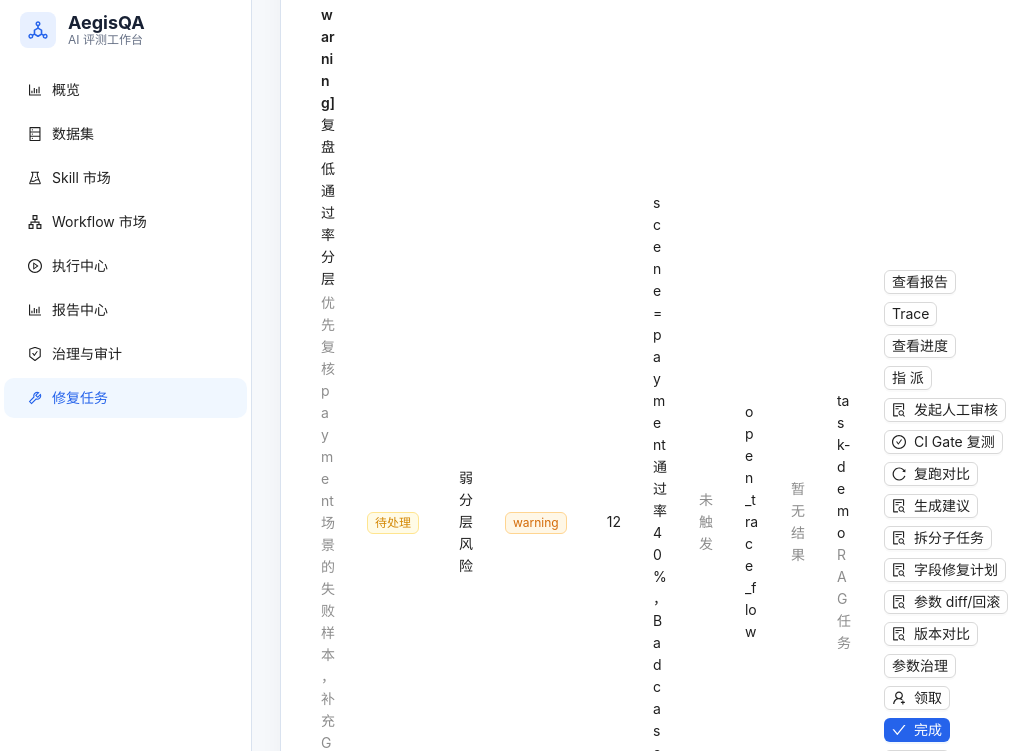
Test: 修复任务工作台 › 修复任务工作台支持指派负责人并在修复树提示逾期
(page scrolled)
Click the button named "指派修复任务" at (908, 378), box x1=884 y1=366 x2=932 y2=390
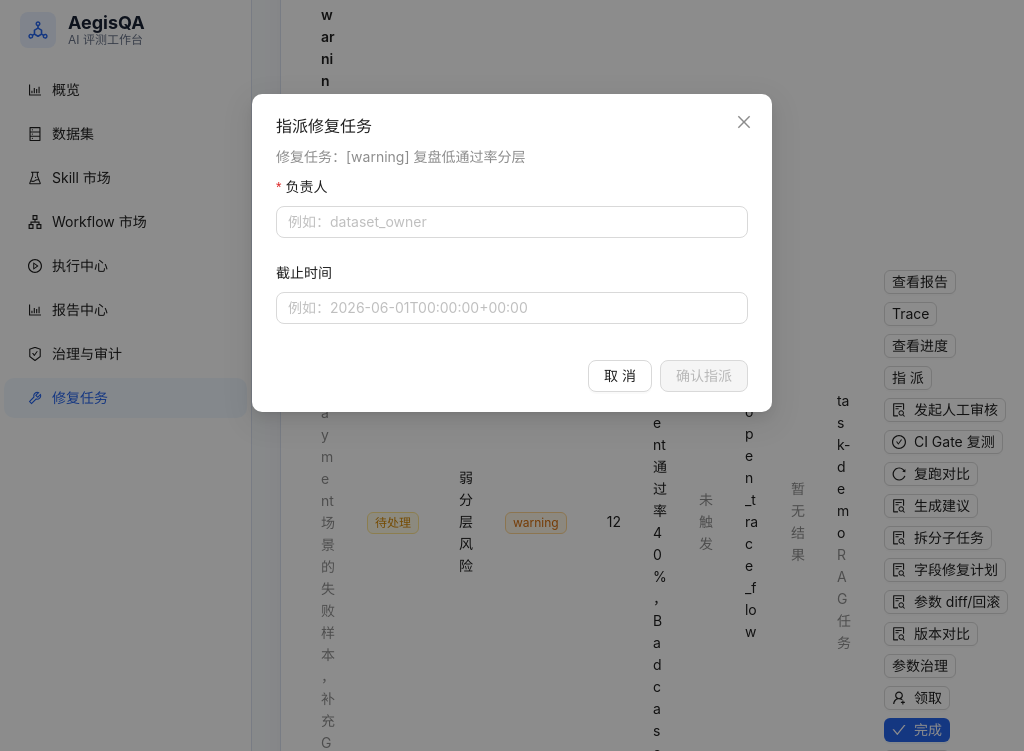
Result: the text "指派修复任务" is shown at x1=276 y1=116 x2=372 y2=136
Type "dataset_owner" into the field with placeholder "例如：dataset_owner" at (512, 222), box x1=276 y1=206 x2=748 y2=238
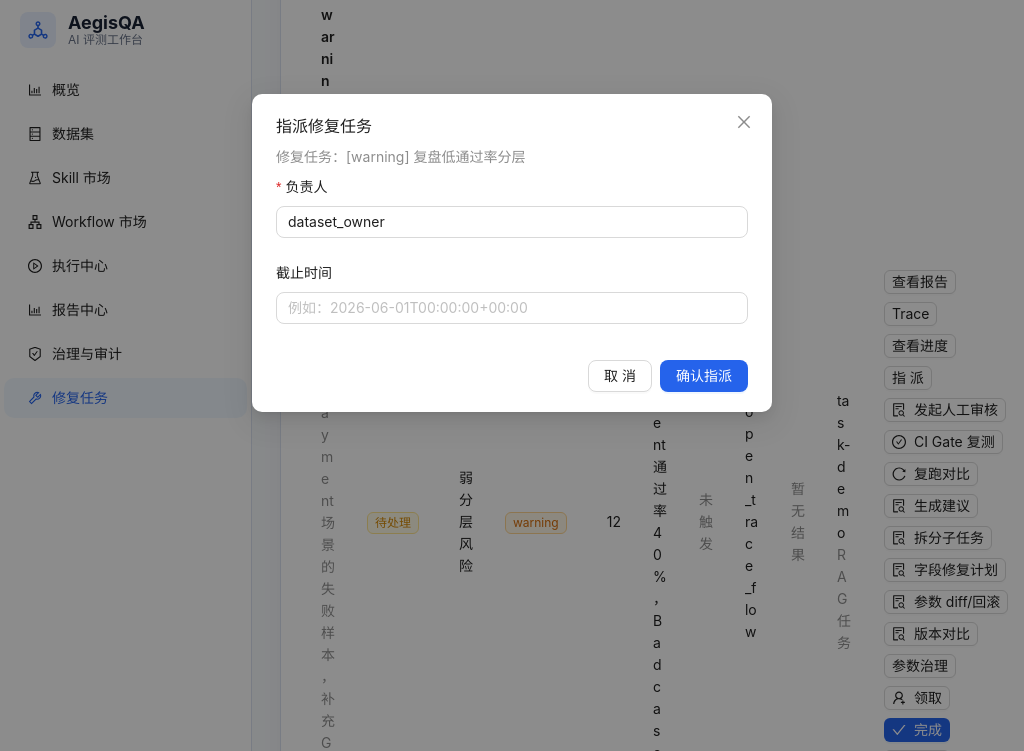
Type "2000-01-01T00:00:00+00:00" into the field with placeholder "例如：2026-06-01T00:00:00+00:00" at (512, 308), box x1=276 y1=292 x2=748 y2=324
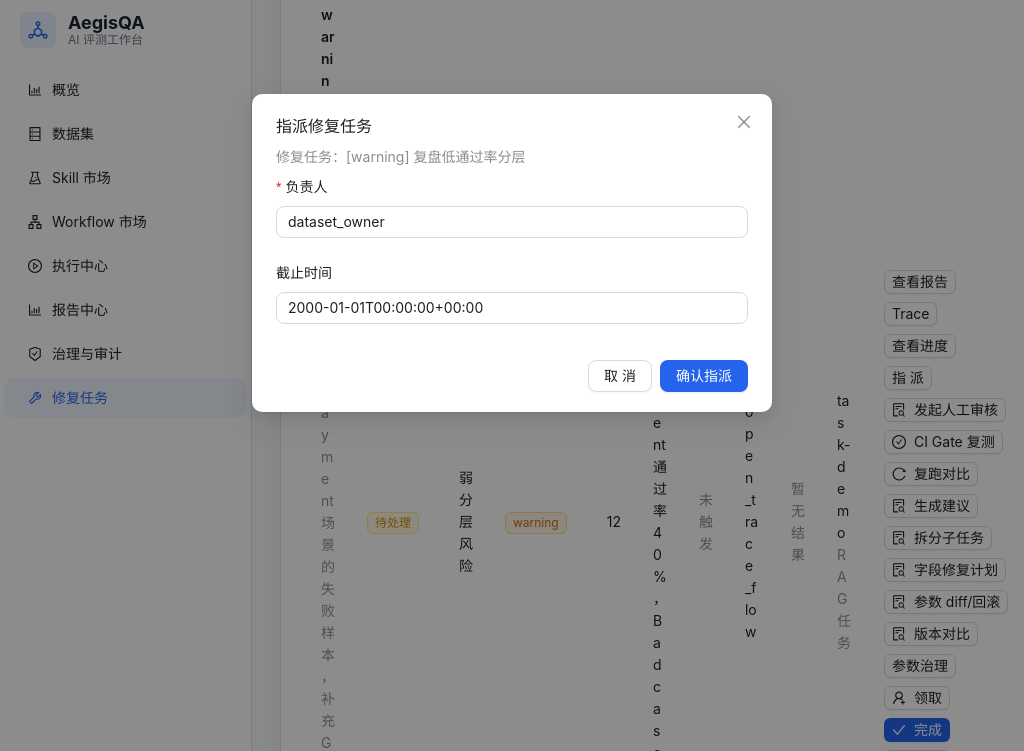
Click the button "确认指派" at (704, 376), box x1=660 y1=360 x2=748 y2=392
(page scrolled)
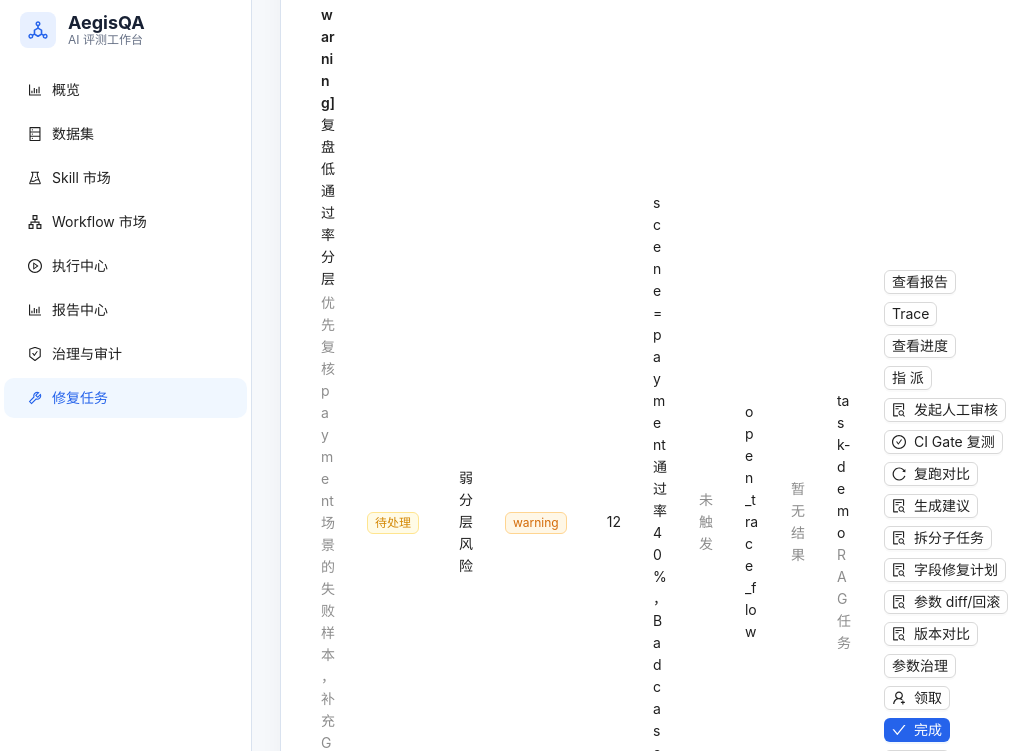
Result: the text "dataset_owner" is shown at x1=883 y1=391 x2=930 y2=452
Click the button "查看进度" at (920, 346), box x1=884 y1=334 x2=956 y2=358
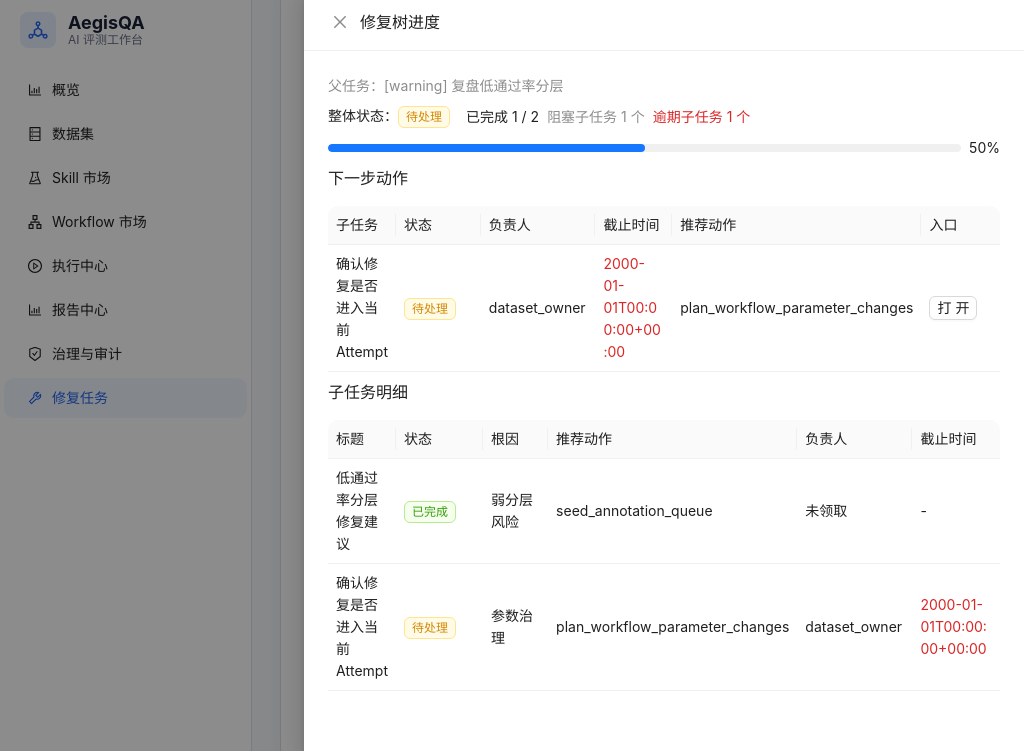
Result: the text "逾期子任务 1 个" is shown at x1=653 y1=108 x2=750 y2=124
